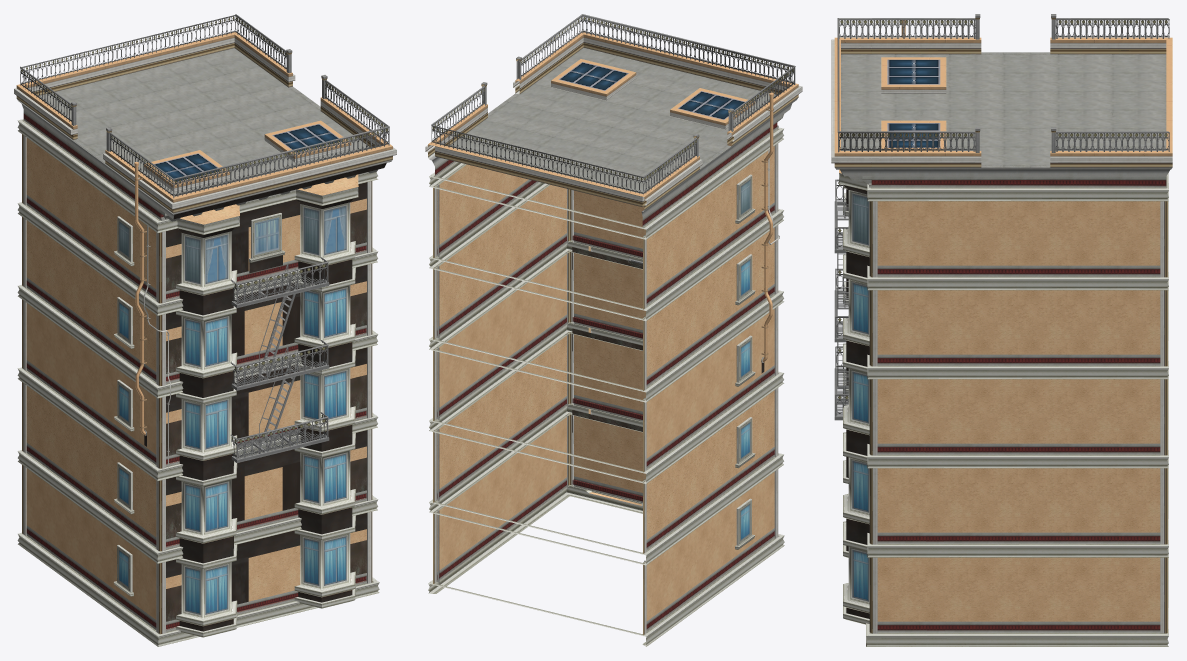
The model's file is MHouseI_high.fbx.
The picture shows the model from 3 angles, left to right: view 1: azimuth 30°, elevation 25°; view 2: azimuth 150°, elevation 25°; view 3: azimuth 270°, elevation 25°; orthographic projection. The views are drawn at different scales.
Visible parts, largest first — view 1: ct2_03_n1_ym2_MhouseI_high01; view 2: ct2_03_n1_ym2_MhouseI_high01; view 3: ct2_03_n1_ym2_MhouseI_high01.
Boxes of the visible parts, x1=… form: ct2_03_n1_ym2_MhouseI_high01: x1=14, y1=14, x2=396, y2=646; ct2_03_n1_ym2_MhouseI_high01: x1=425, y1=14, x2=802, y2=646; ct2_03_n1_ym2_MhouseI_high01: x1=831, y1=14, x2=1172, y2=646.
Bounding box in the file's own units: 1272 × 2554 × 1528.
